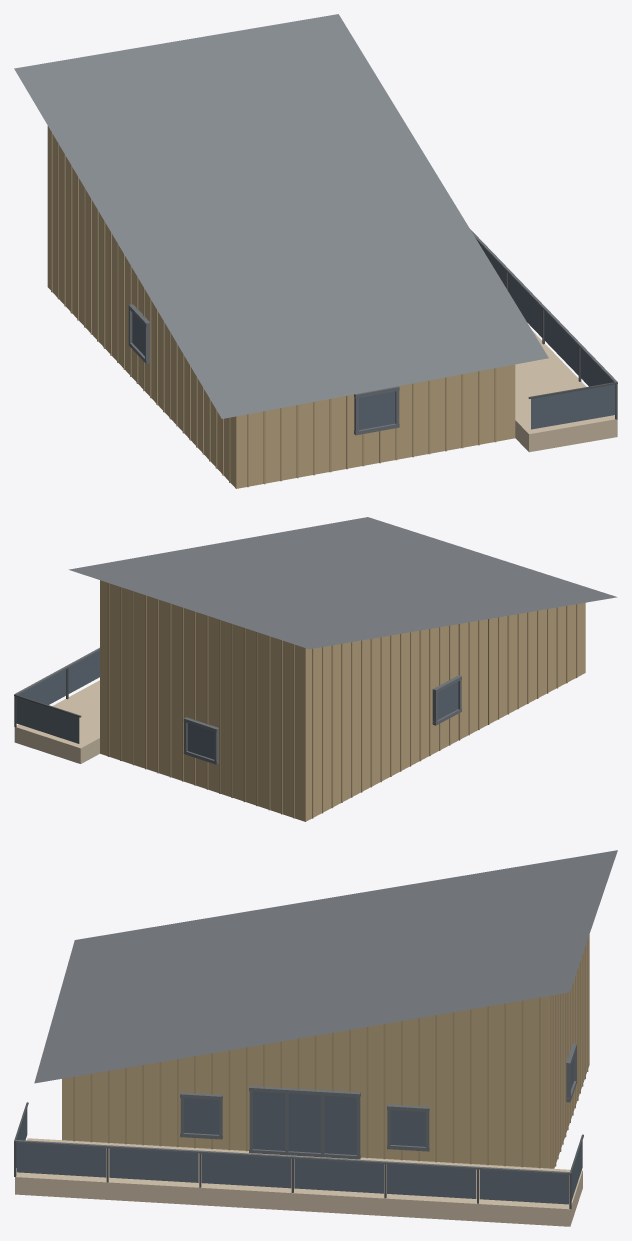
3 views of the same model, one above another, from view 1: azimuth 30°, elevation 25°; view 2: azimuth 150°, elevation 25°; view 3: azimuth 270°, elevation 25° (orthographic). The views are drawn at different scales.
Visible parts, largest first — view 1: slate, door_wood, door_wood_p, larch, window_glass_007, slate_dk, window_glass_016, window_glass_002, window_glass_003, window_glass_001; view 2: door_wood, slate, door_wood_p, larch, window_glass_008, slate_dk, window_glass_006, window_glass_005, window_glass_014, window_glass_015; view 3: slate, door_wood, larch, door_wood_p, slate_dk, window_glass_003, window_glass_001, window_glass_006, window_glass_002, window_glass_004, window_glass_005, window_glass_009 (+5 smaller).
Part boxes in pixels (<box>): slate: <box>14,14,548,418</box>; door_wood: <box>47,126,515,488</box>; door_wood_p: <box>51,131,496,487</box>; larch: <box>515,330,617,452</box>; window_glass_007: <box>531,384,615,429</box>; slate_dk: <box>128,229,617,435</box>; window_glass_016: <box>359,391,395,429</box>; window_glass_002: <box>544,311,578,375</box>; window_glass_003: <box>508,273,542,337</box>; window_glass_001: <box>580,349,612,386</box>; door_wood: <box>100,580,585,821</box>; slate: <box>69,517,617,649</box>; door_wood_p: <box>107,583,577,818</box>; larch: <box>14,680,99,763</box>; window_glass_008: <box>16,697,79,743</box>; slate_dk: <box>15,647,461,764</box>; window_glass_006: <box>18,669,66,704</box>; window_glass_005: <box>68,651,99,693</box>; window_glass_014: <box>187,723,214,759</box>; window_glass_015: <box>437,682,458,719</box>; slate: <box>34,850,617,1083</box>; door_wood: <box>62,934,589,1168</box>; larch: <box>15,1138,582,1226</box>; door_wood_p: <box>73,938,588,1168</box>; slate_dk: <box>15,1043,576,1174</box>; window_glass_003: <box>201,1153,291,1188</box>; window_glass_001: <box>16,1143,106,1177</box>; window_glass_006: <box>479,1169,568,1204</box>; window_glass_002: <box>109,1148,198,1182</box>; window_glass_004: <box>294,1159,383,1193</box>; window_glass_005: <box>387,1164,476,1198</box>; window_glass_009: <box>253,1091,285,1150</box>.
Size of the model in its own units: 12.54 by 5.88 by 15.62.
